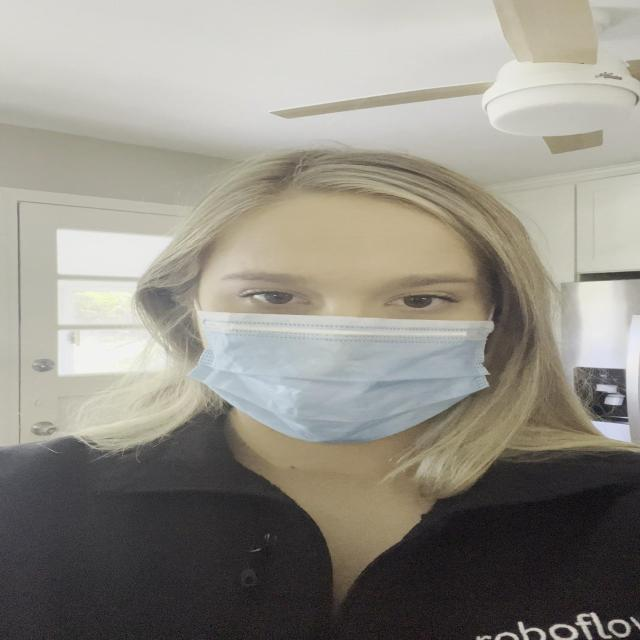no-helmet: (191, 186, 503, 448)
